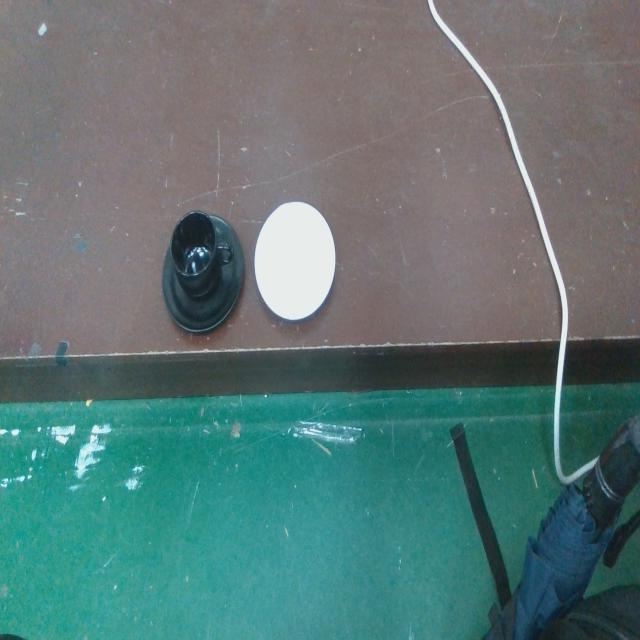black: (161, 208, 247, 337)
white: (253, 198, 337, 327)
